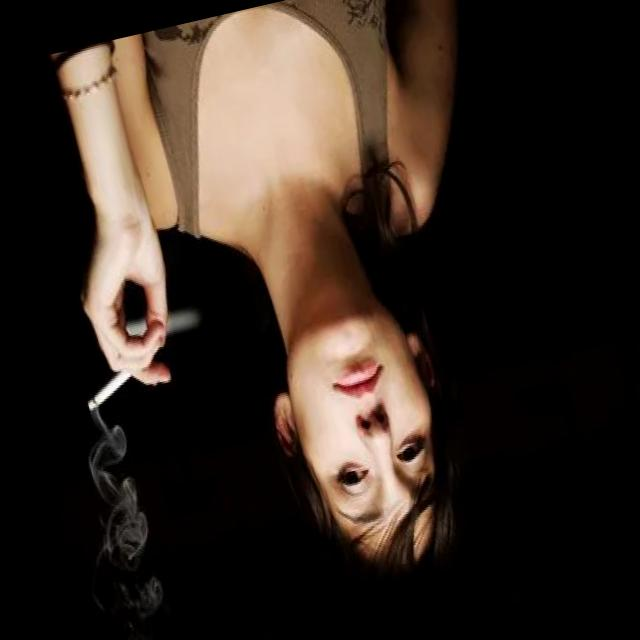smoke: (74, 346, 171, 414)
